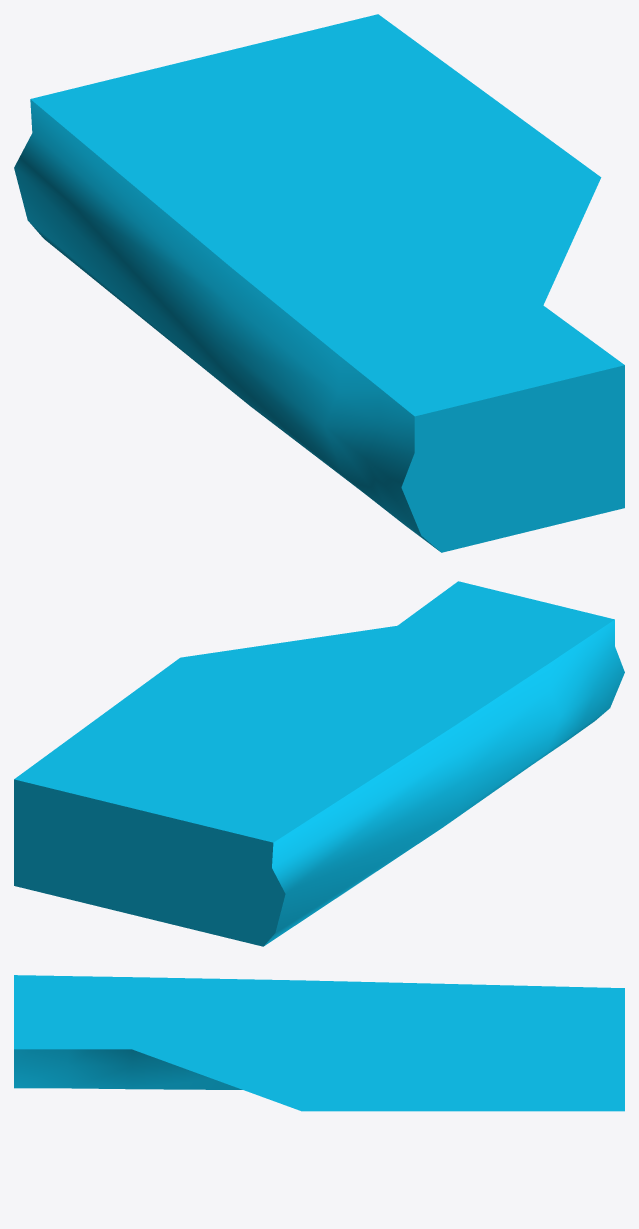
Rendered from woda_2_5_1.FBX.
3 views of the same model, one above another, from view 1: azimuth 30°, elevation 25°; view 2: azimuth 150°, elevation 25°; view 3: azimuth 270°, elevation 25° (orthographic). The views are drawn at different scales.
Visible parts, largest first — view 1: woda_2_5_1; view 2: woda_2_5_1; view 3: woda_2_5_1.
Part boxes in pixels (x1,y1,x2,y2): woda_2_5_1: (14,14,624,552); woda_2_5_1: (14,581,624,946); woda_2_5_1: (14,975,624,1111).
Size of the model in its own units: 14.14 by 4.85 by 25.91.
